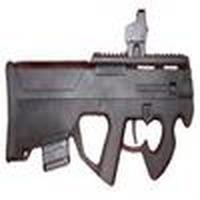gun: (4, 52, 198, 182)
